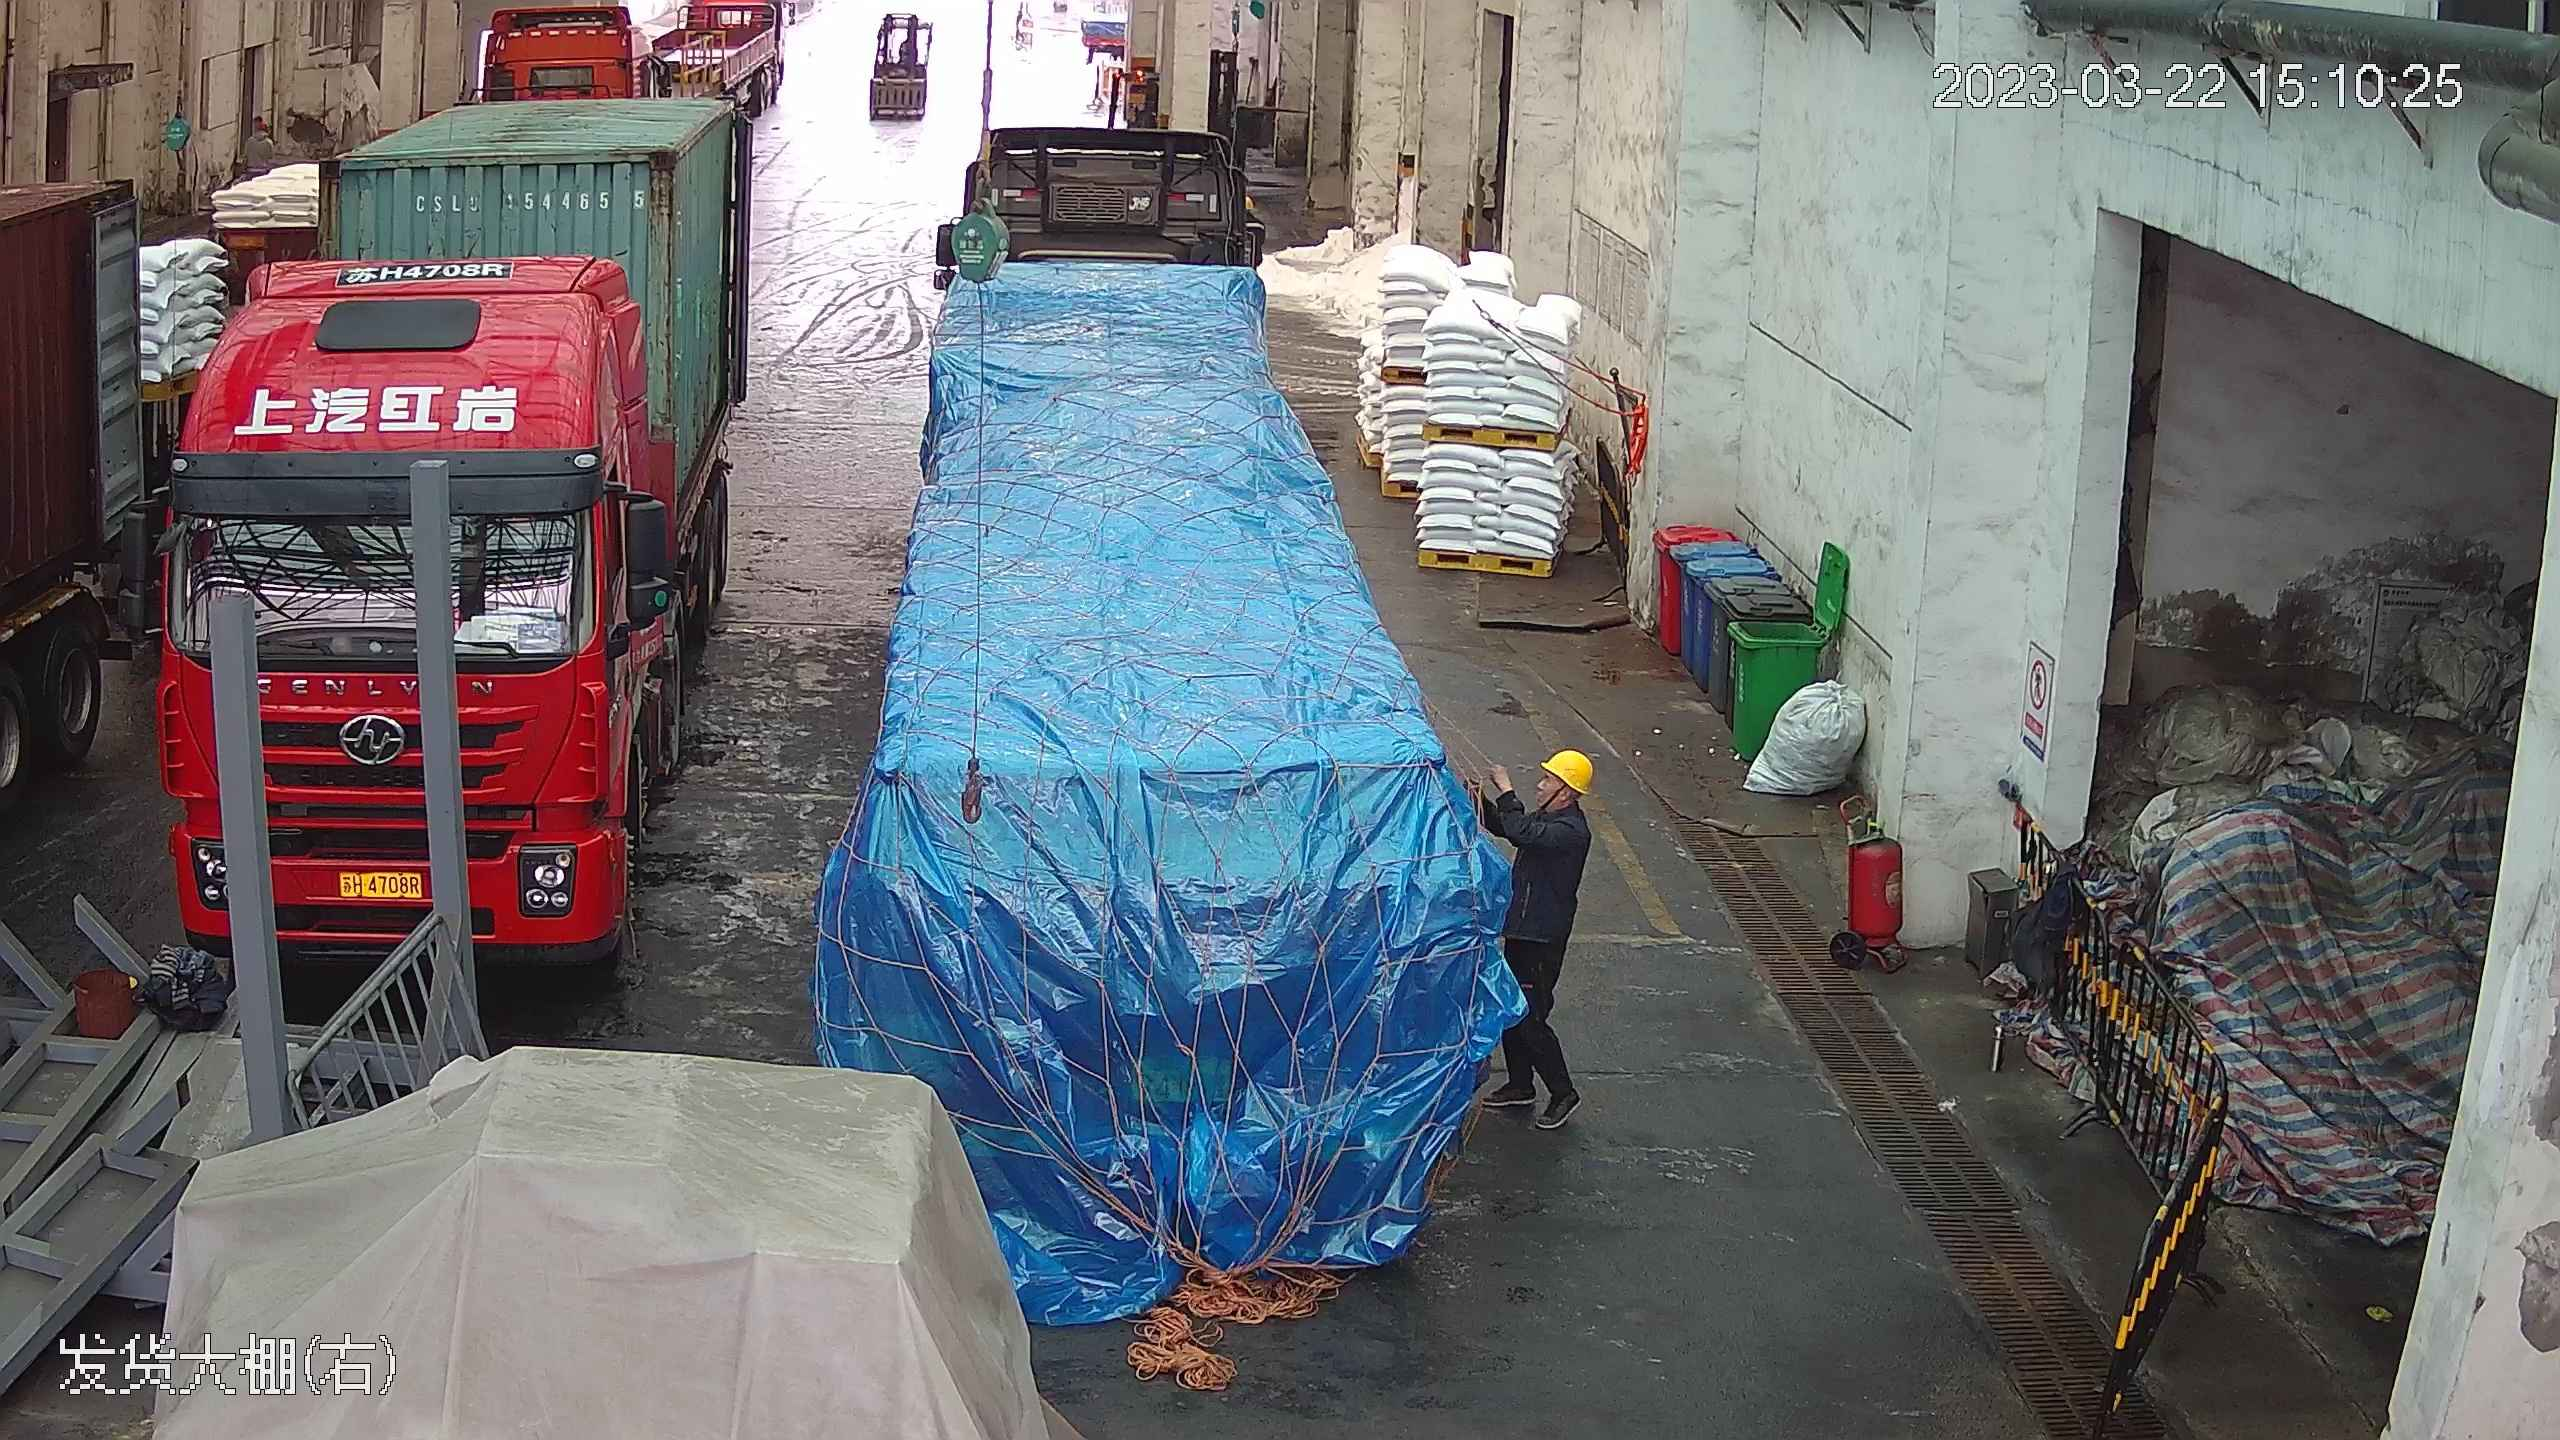head: (1511, 746, 1594, 856)
helmet: (1540, 746, 1592, 795)
people: (1471, 739, 1596, 1128)
truck: (813, 30, 1604, 1352), (161, 12, 761, 964)
